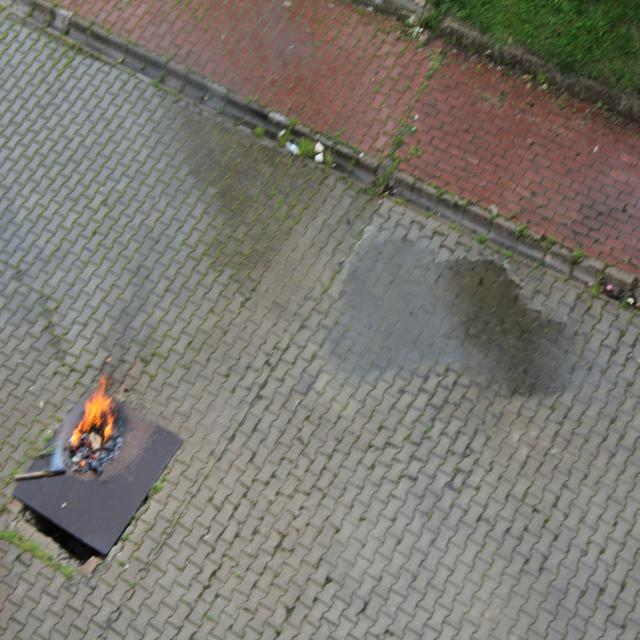fire: (66, 365, 119, 461)
